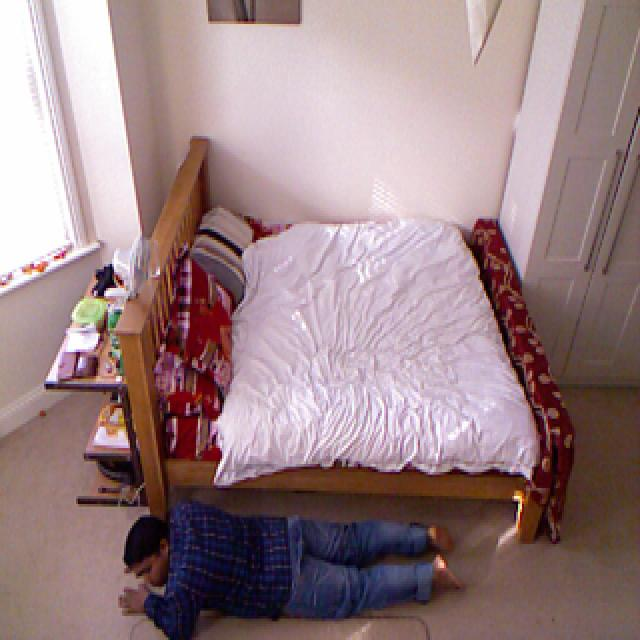lying: (100, 495, 487, 638)
